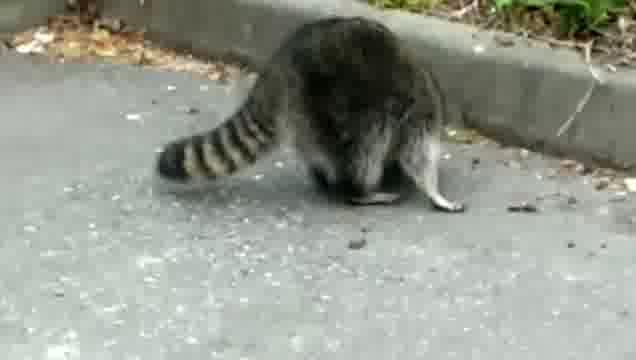raccoon: (159, 18, 468, 214)
